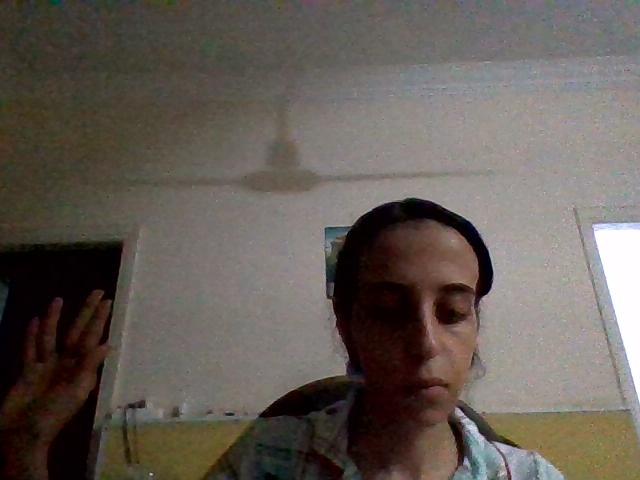LiveLong: (1, 286, 115, 454)
